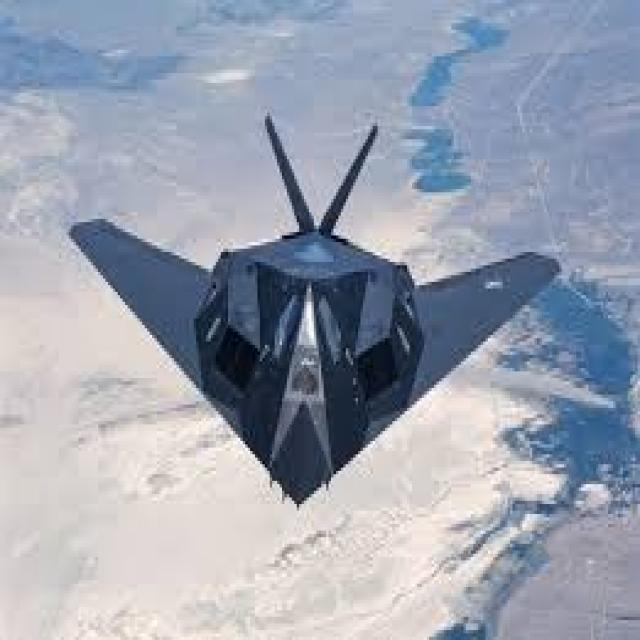F117: (33, 72, 591, 560)
